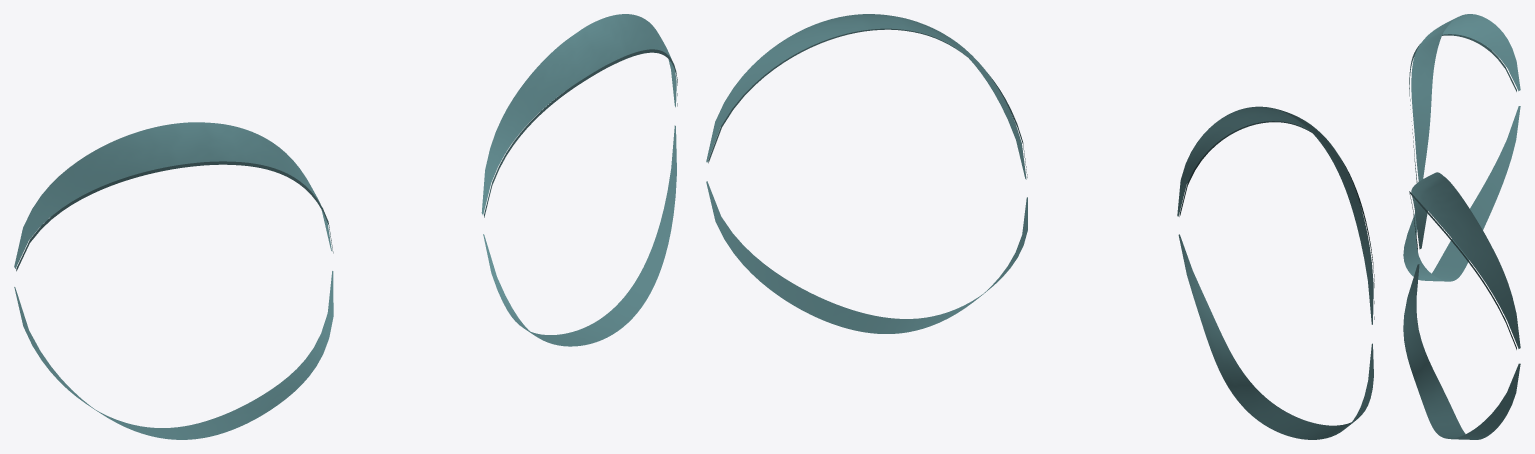
The model's file is yeti-eyelids.glb.
3 renders of one model, left to right at view 1: azimuth 30°, elevation 25°; view 2: azimuth 150°, elevation 25°; view 3: azimuth 270°, elevation 25°, orthographic. The views are drawn at different scales.
Visible parts, largest first — view 1: Paupieres_Sculptees; view 2: Paupieres_Sculptees; view 3: Paupieres_Sculptees.
Boxes of the visible parts, x1,y1,x2,y2 form: Paupieres_Sculptees: (14, 14, 677, 439); Paupieres_Sculptees: (706, 14, 1374, 439); Paupieres_Sculptees: (1403, 14, 1520, 439).
Size of the model in its own units: 0.3517 by 0.158 by 0.0677.
